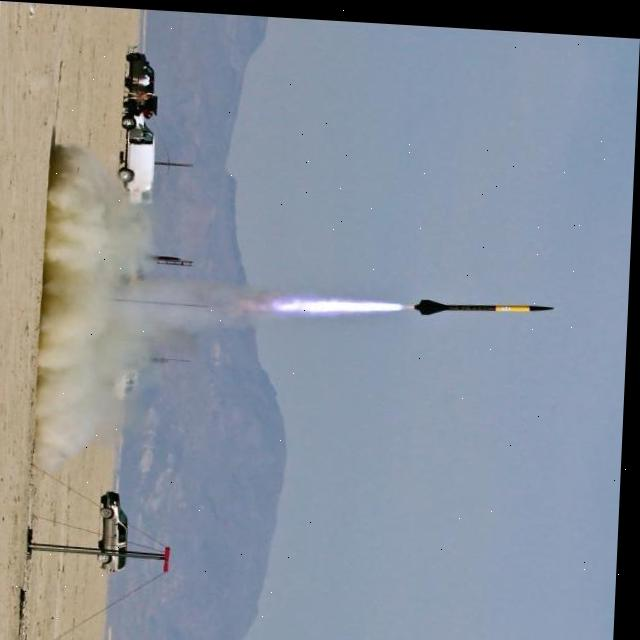missile: (411, 288, 558, 320)
